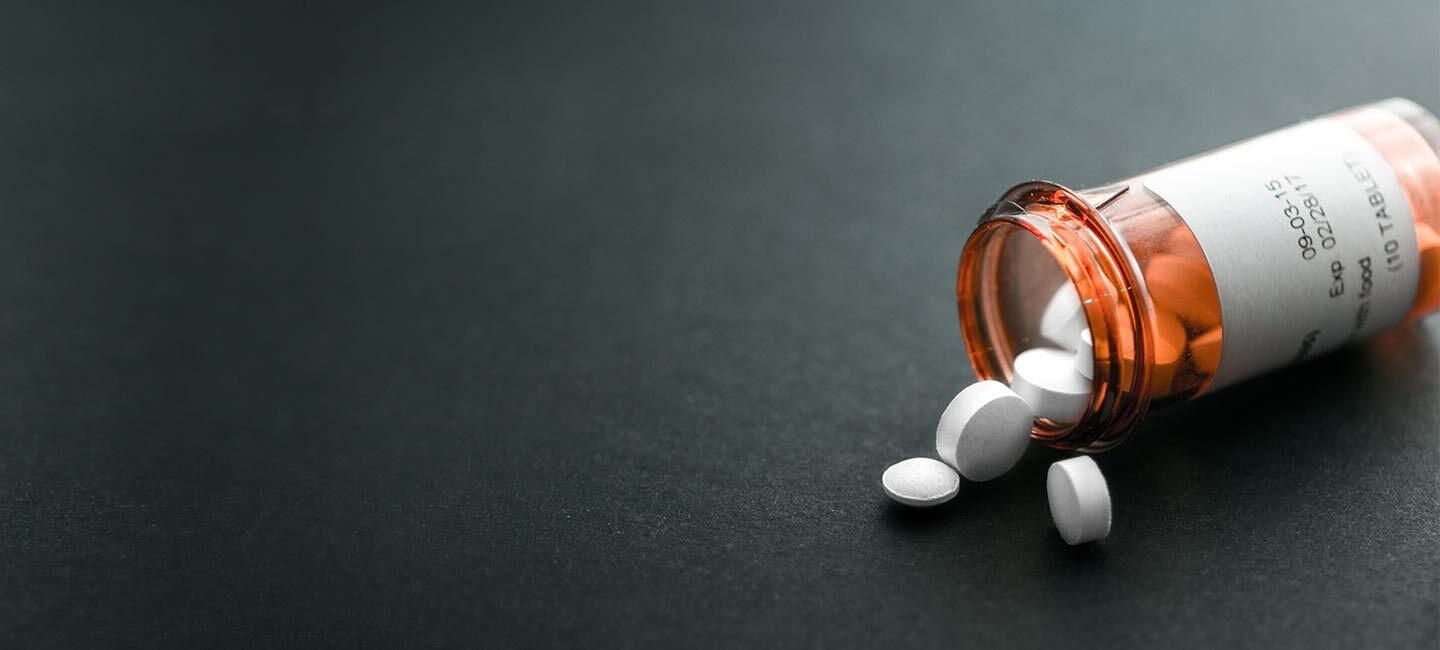pills: (934, 383, 1031, 479), (1042, 465, 1117, 548), (884, 445, 959, 528)
